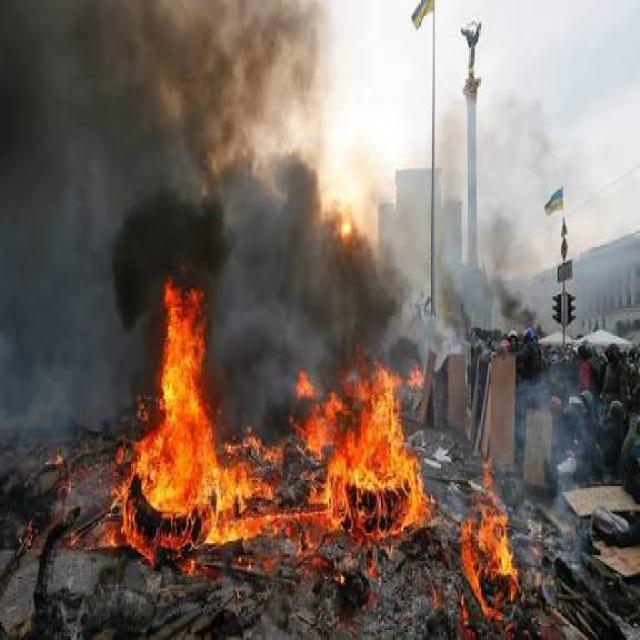fire: (98, 278, 248, 565), (290, 345, 434, 542), (459, 504, 519, 640), (249, 504, 335, 539)
